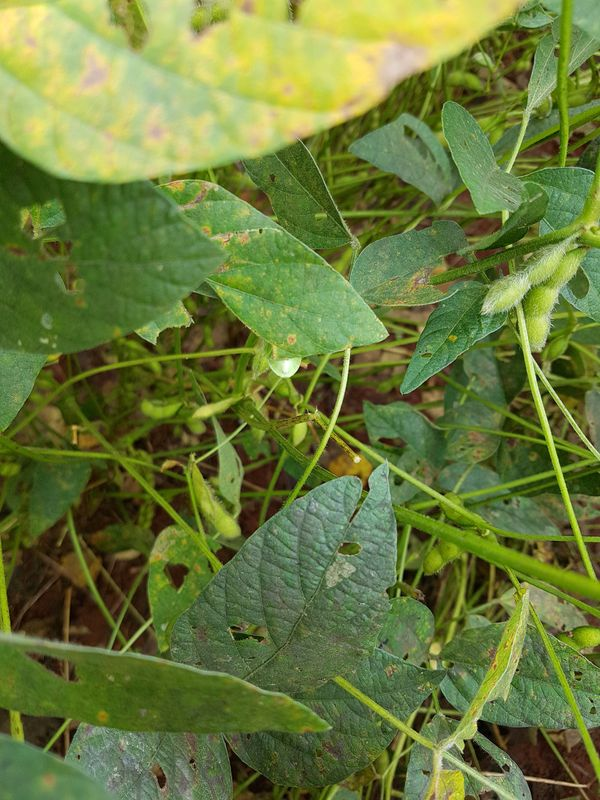Nezara_viridula_adulto: (256, 343, 313, 389)
